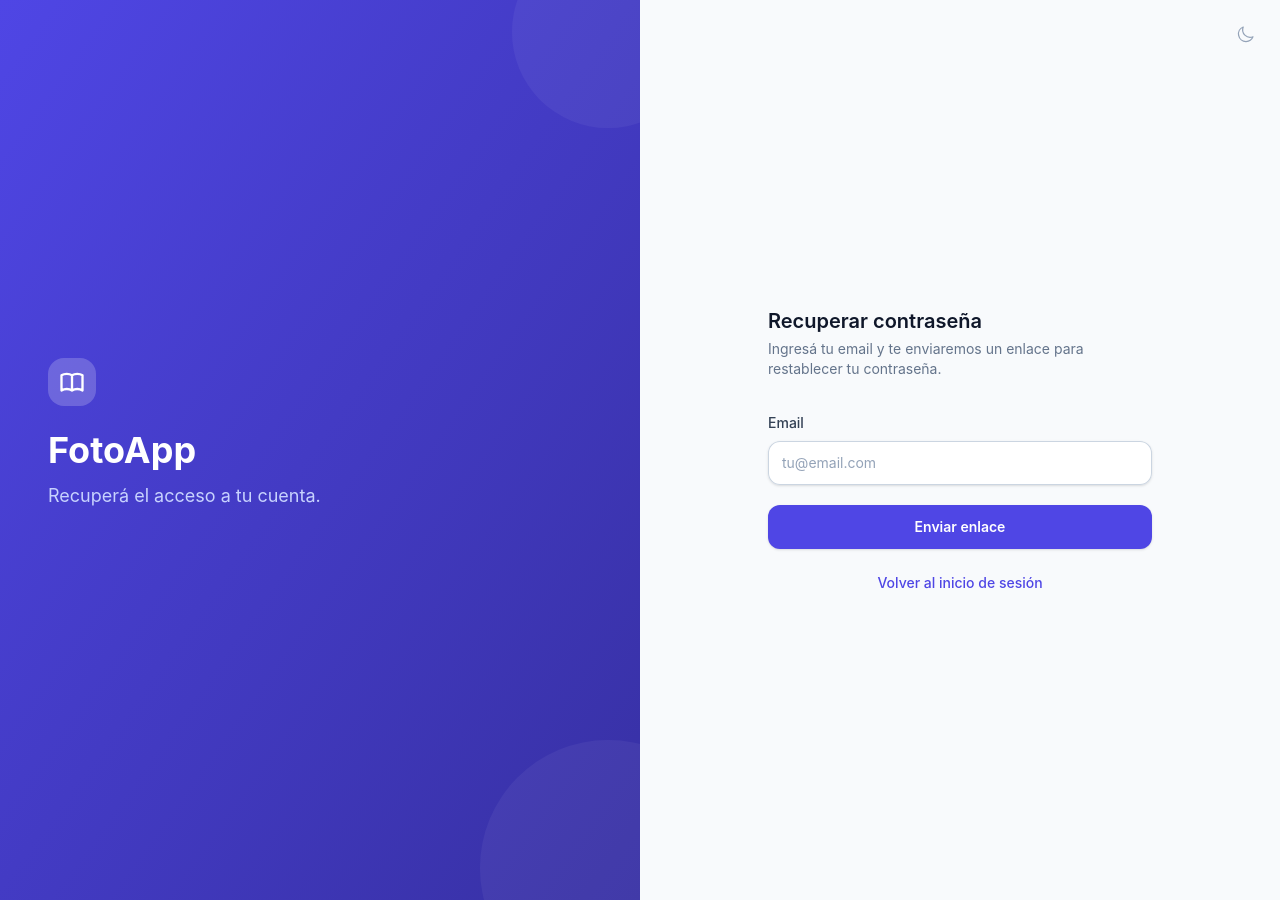
Scenario: ForgotPassword page › shows success message on successful submission
The width and height of the screenshot is (1280, 900).
Type "student@example.com" into the field labelled "Email" at [960, 463], box [768, 441, 1152, 485]
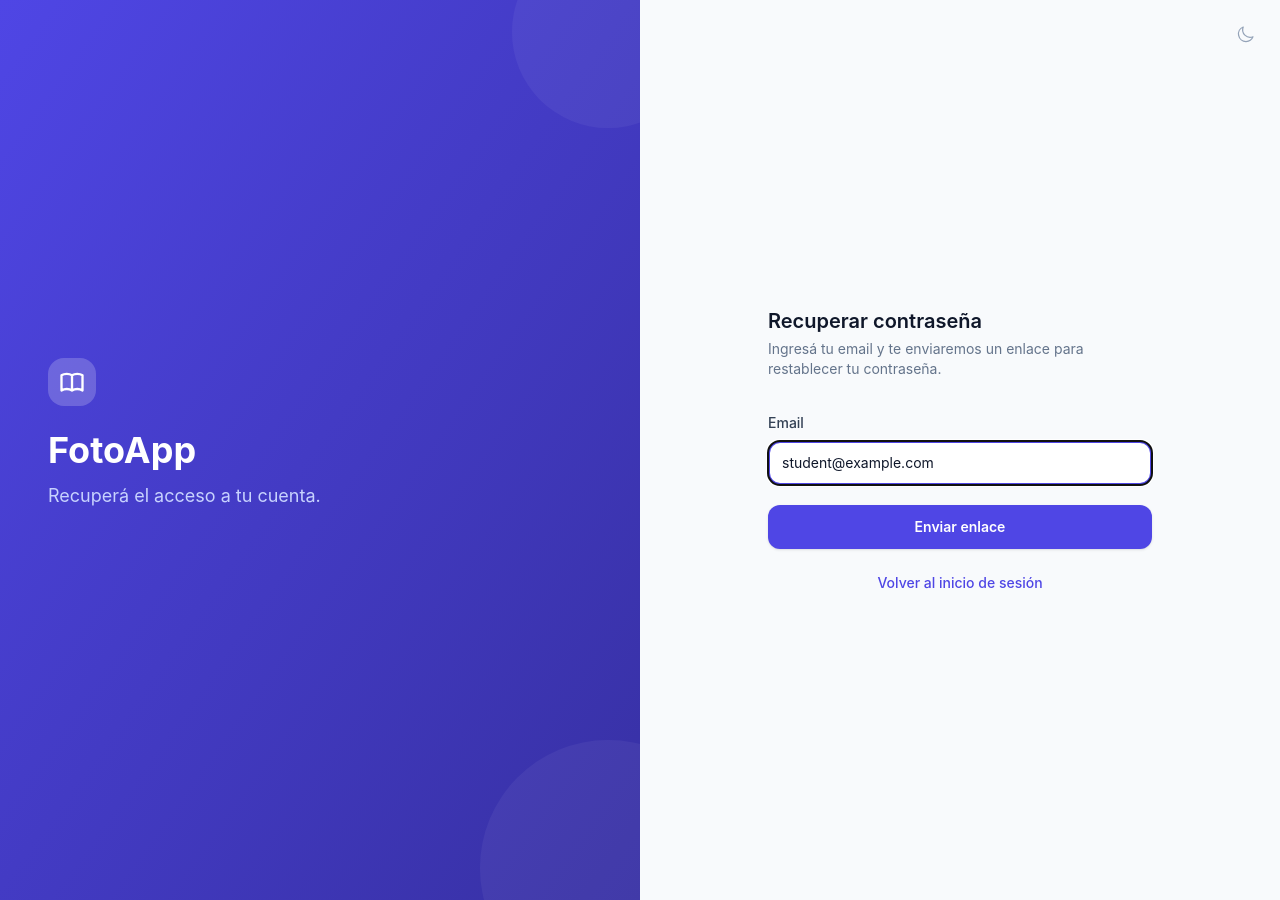
Click the button "Enviar enlace" at [960, 527], box [768, 505, 1152, 549]
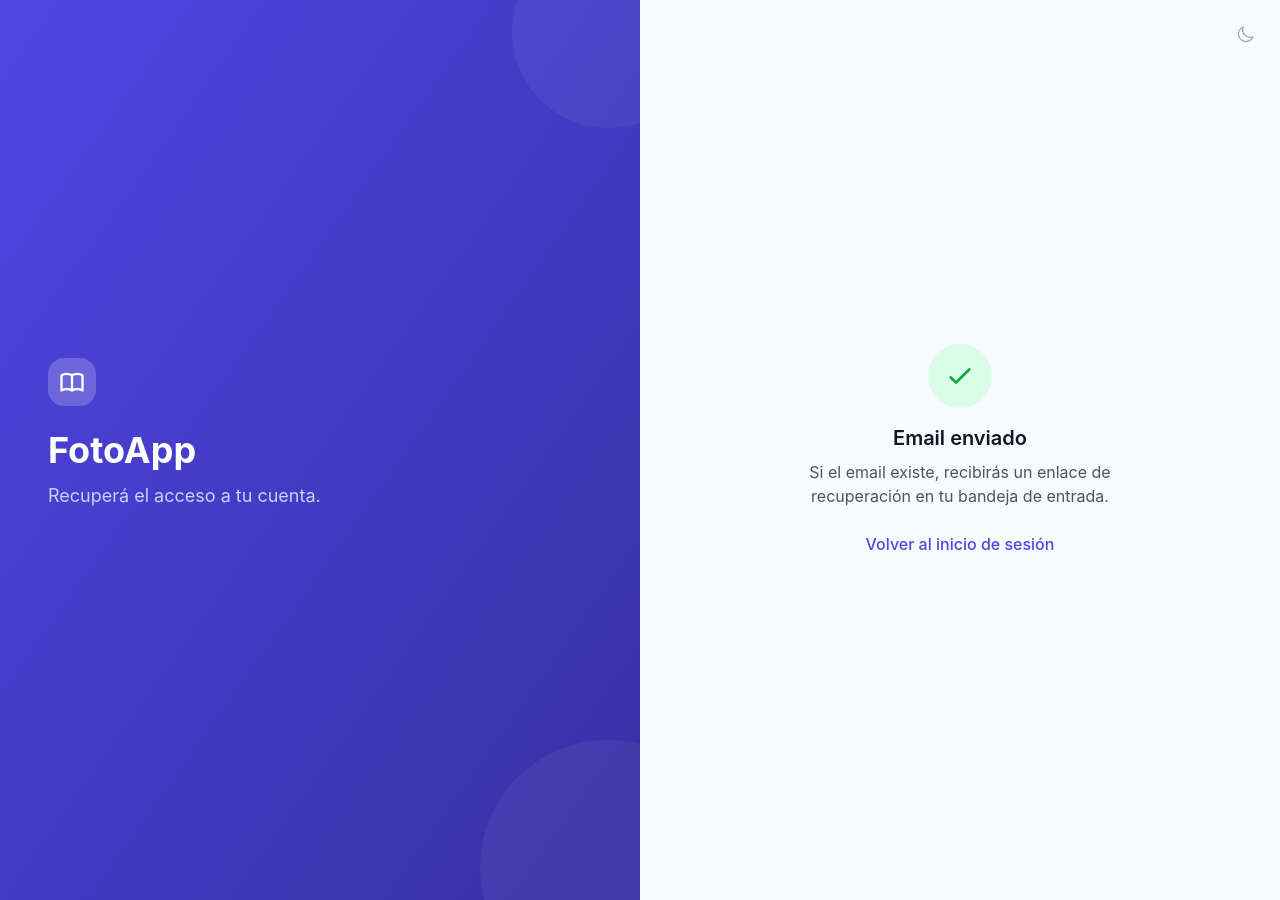
Check: the text "recibirás un enlace" is shown, box [809, 462, 1111, 506]
